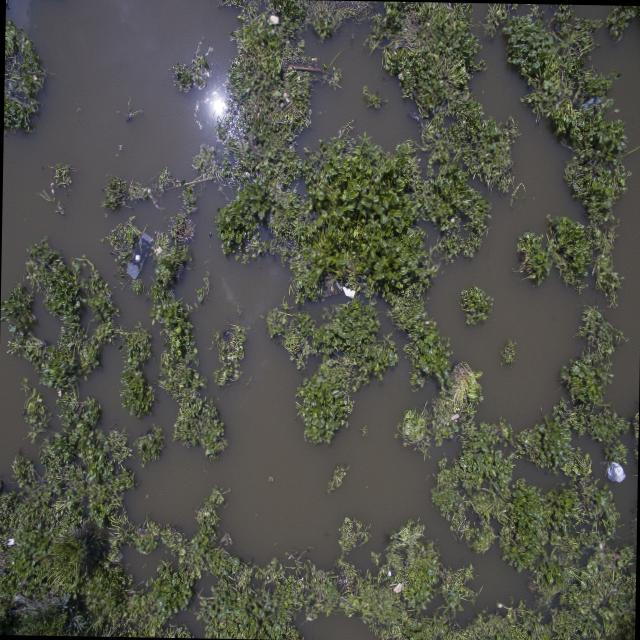Plastic: (124, 232, 154, 282), (605, 458, 626, 488), (341, 282, 361, 302)
